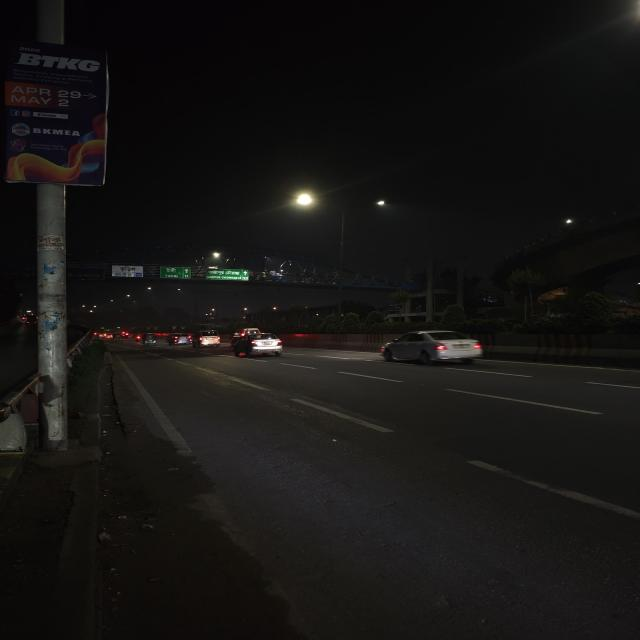car: (372, 326, 489, 369), (234, 332, 289, 361), (190, 330, 220, 350), (166, 332, 189, 348)
cng: (139, 332, 159, 346)
